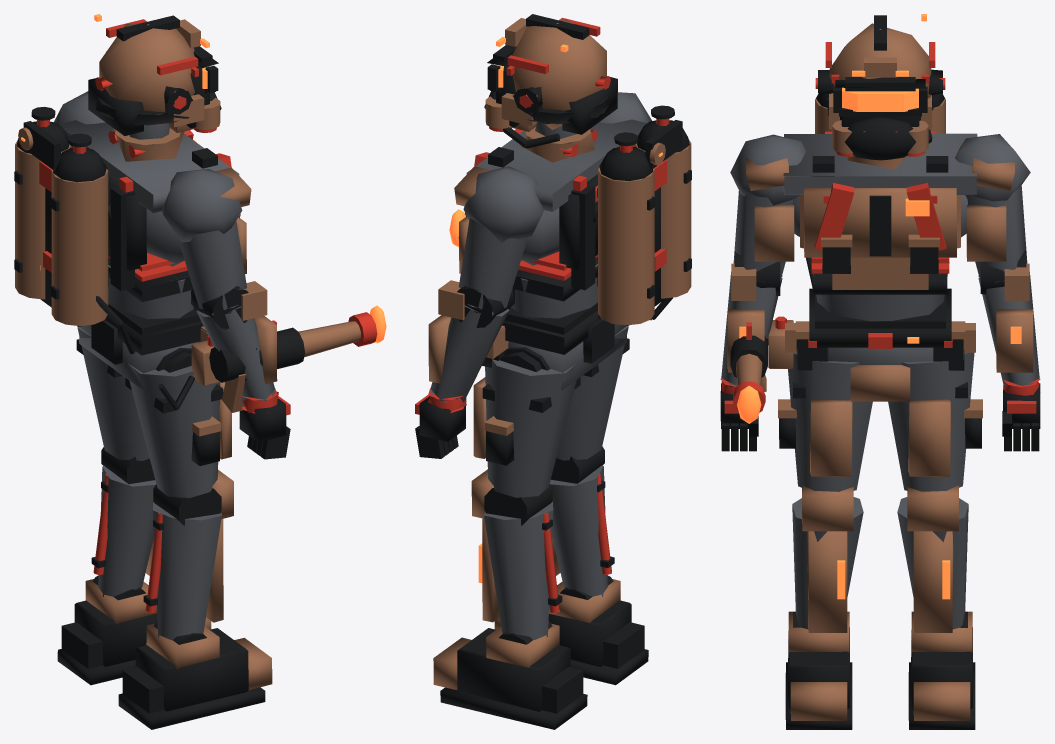
Rendered from humanoide_incinerador.glb.
3 renders of one model, left to right at view 1: azimuth 30°, elevation 25°; view 2: azimuth 150°, elevation 25°; view 3: azimuth 270°, elevation 25°, orthographic.
Visible parts, largest first — view 1: mov_pierna_der, incinerador_deposito, mov_pierna_izq, mov_brazo_der, mov_torso, mov_cabeza, incinerador_lanzallamas, pelvis, incinerador_mascara, mov_brazo_izq; view 2: mov_pierna_izq, incinerador_deposito, mov_pierna_der, mov_brazo_izq, mov_torso, mov_cabeza, pelvis, incinerador_mascara, mov_brazo_der, incinerador_lanzallamas; view 3: mov_torso, mov_pierna_izq, mov_pierna_der, mov_brazo_izq, mov_brazo_der, pelvis, mov_cabeza, incinerador_mascara, incinerador_lanzallamas, incinerador_deposito.
Part boxes in pixels (box(x1,y1,x2,y2)): mov_pierna_der: box(118, 347, 272, 729); incinerador_deposito: box(14, 106, 135, 354); mov_pierna_izq: box(57, 327, 211, 685); mov_brazo_der: box(162, 167, 290, 459); mov_torso: box(59, 120, 240, 335); mov_cabeza: box(88, 14, 218, 145); incinerador_lanzallamas: box(157, 305, 386, 412); pelvis: box(79, 315, 208, 390); incinerador_mascara: box(165, 19, 221, 132); mov_brazo_izq: box(54, 91, 105, 124); mov_pierna_izq: box(433, 347, 587, 729); incinerador_deposito: box(571, 105, 691, 326); mov_pierna_der: box(494, 326, 648, 685); mov_brazo_izq: box(415, 166, 543, 458); mov_torso: box(465, 119, 646, 337); mov_cabeza: box(487, 14, 617, 143); pelvis: box(482, 310, 626, 390); incinerador_mascara: box(484, 18, 560, 148); mov_brazo_der: box(600, 92, 651, 123); incinerador_lanzallamas: box(449, 209, 672, 320); mov_torso: box(783, 133, 977, 328); mov_pierna_izq: box(888, 352, 982, 729); mov_pierna_der: box(778, 352, 872, 729); mov_brazo_izq: box(955, 134, 1040, 451); mov_brazo_der: box(720, 134, 811, 451); pelvis: box(785, 288, 975, 401); mov_cabeza: box(815, 14, 945, 129); incinerador_mascara: box(827, 57, 933, 160); incinerador_lanzallamas: box(730, 316, 793, 423); incinerador_deposito: box(806, 93, 945, 288).
Size of the model in its own units: 0.8364 by 1.85 by 0.8055.
